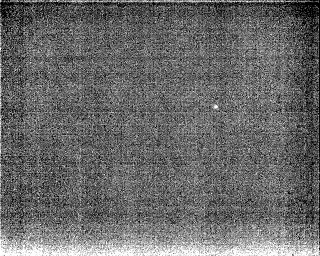BIRD: (211, 102, 220, 112)
